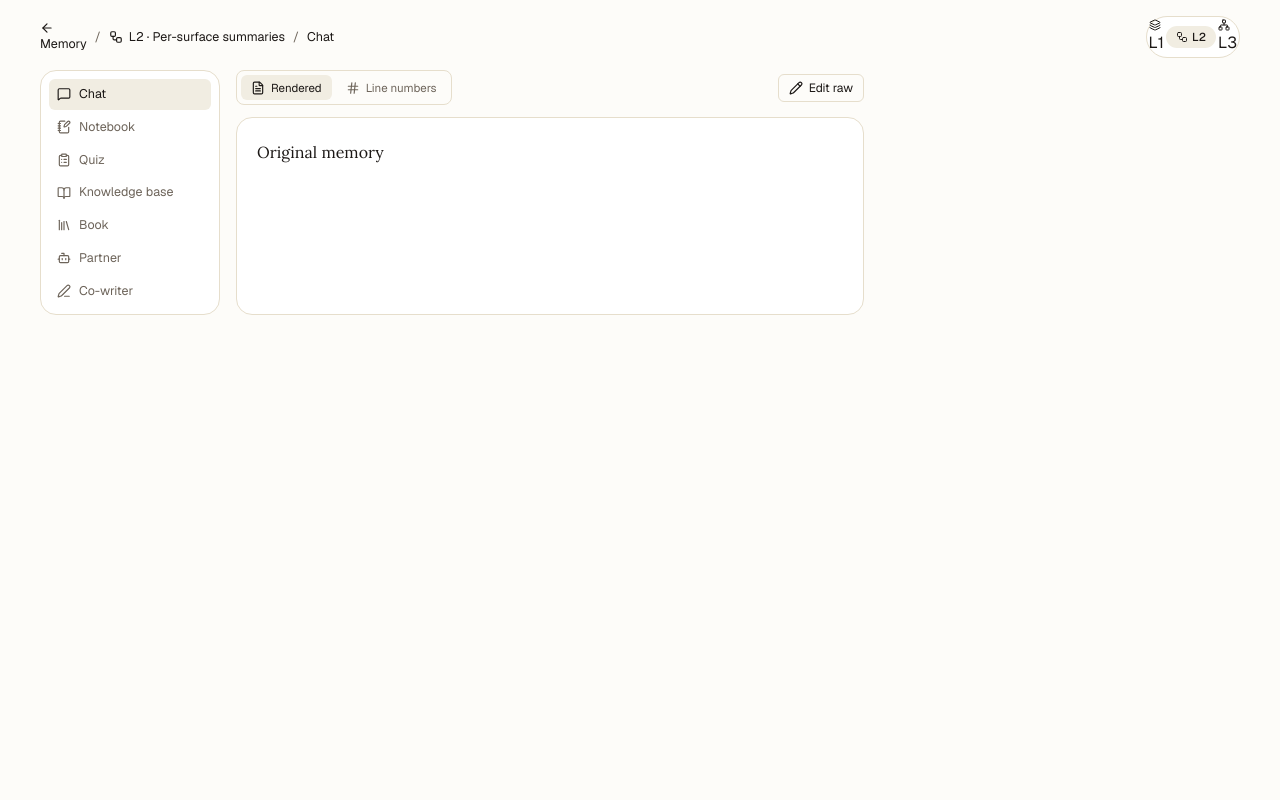
it: keeps the unsaved memory draft editable when the server rejects a save
Expected: the text "Original memory" is shown, [257,142,384,162]
Click the button "Edit raw". click: (821, 88)
box: [778,74,864,102]
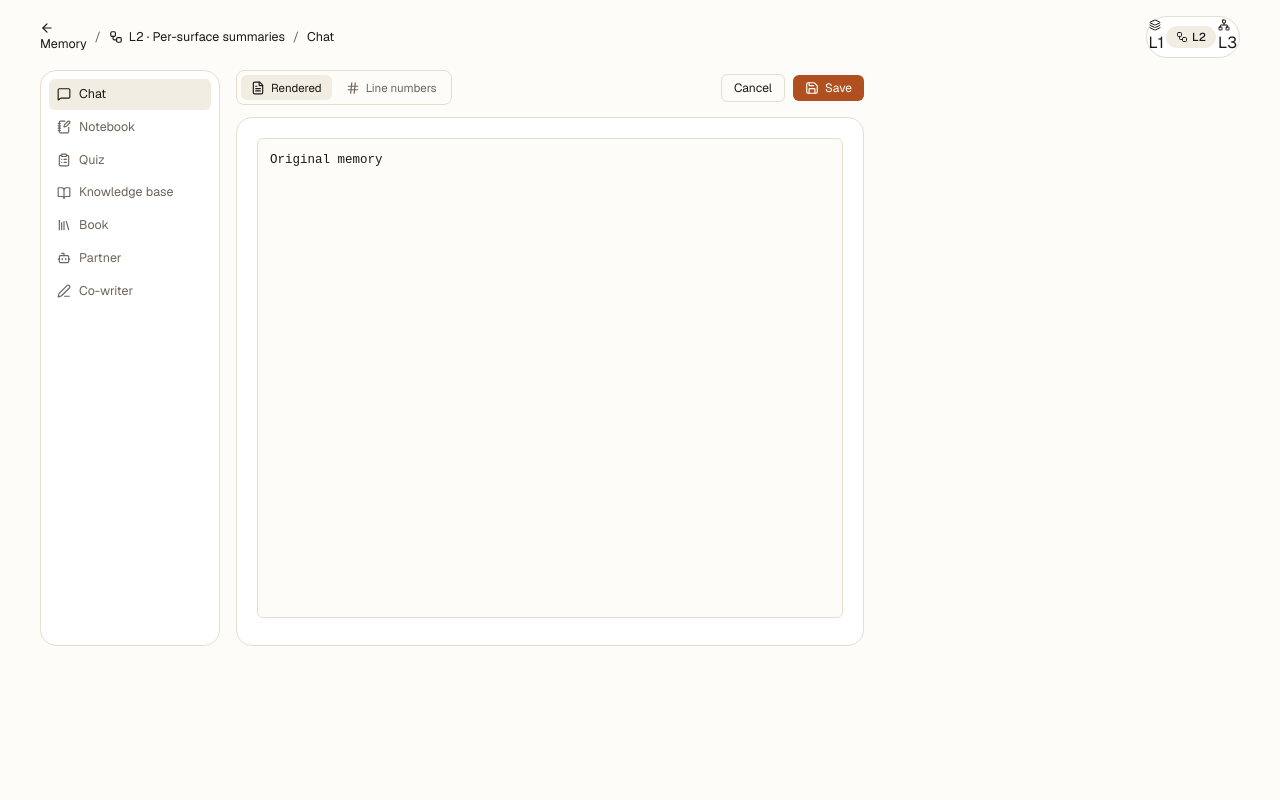
Replace the text in the text box with "Unsaved memory". click: (550, 378)
box: [257,138,843,618]
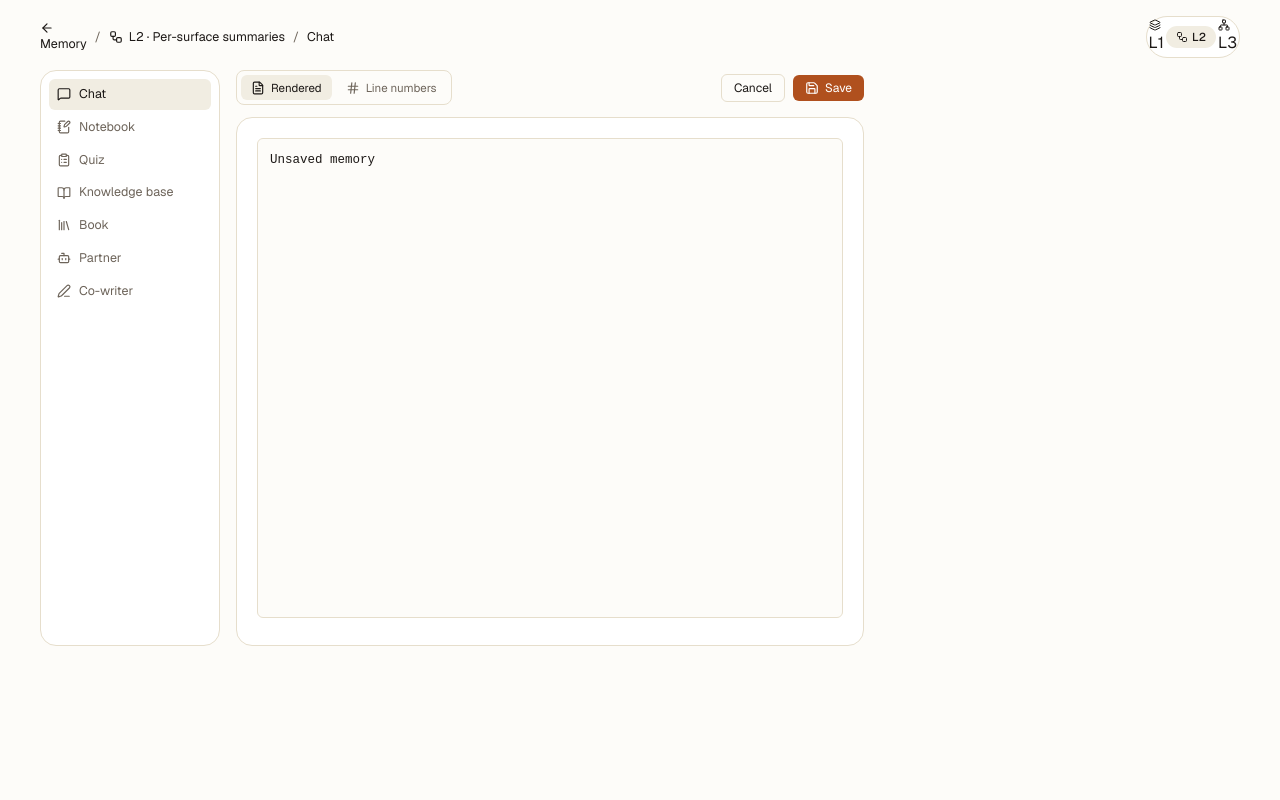
Click the button "Save". click: (828, 88)
box: [793,75,864,101]
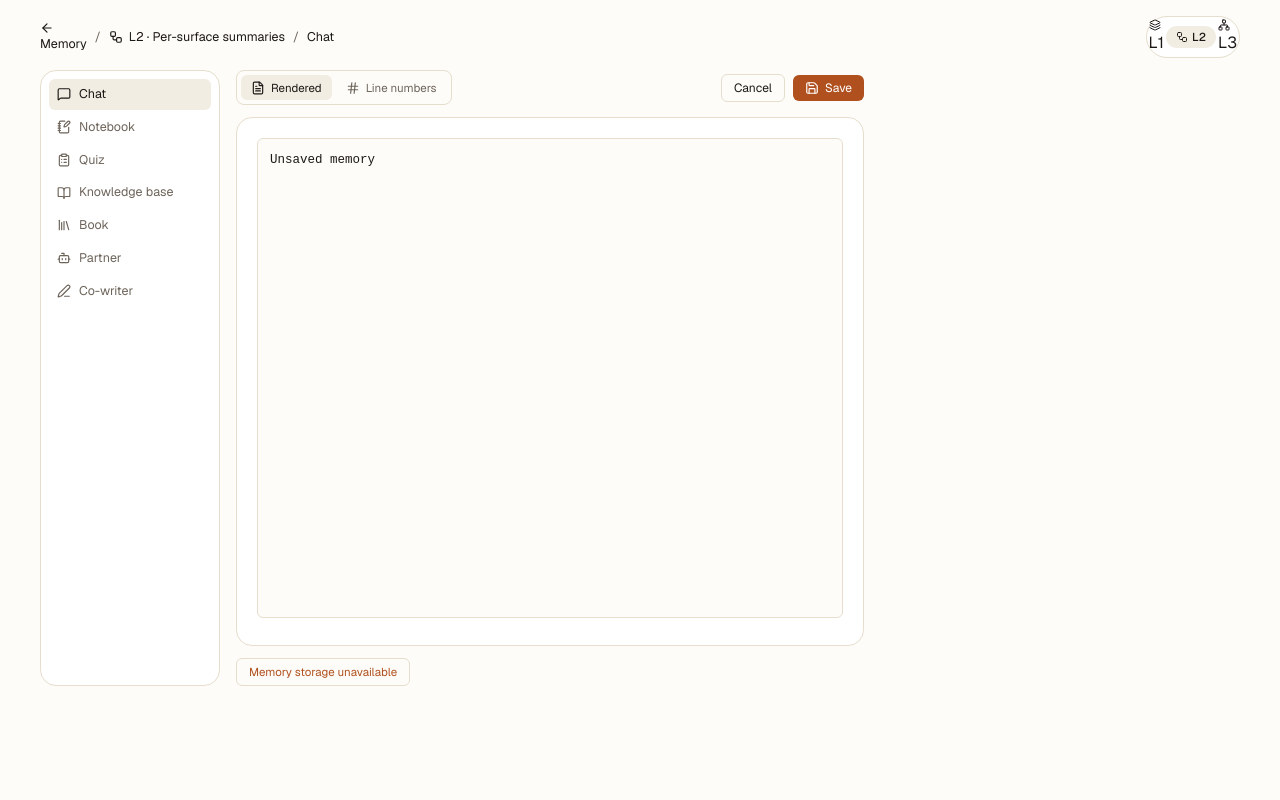
Expected: the text "Memory storage unavailable" is shown, [236,658,410,686]
